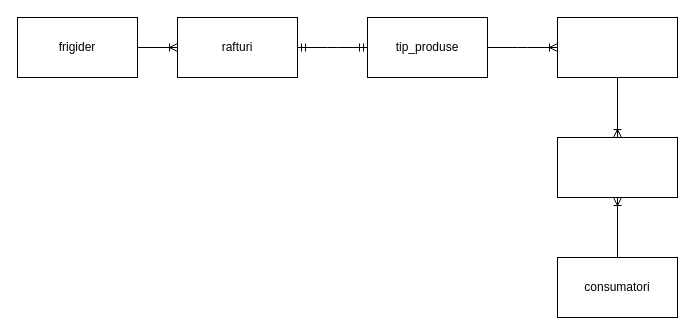
The diagram is 695 pixels wide and 335 high, and some of its shapes have lost their labels. The centre of each missing label's shape, as x and y in pixels:
produs: pixel 617 47
produs_consumatori: pixel 617 167
